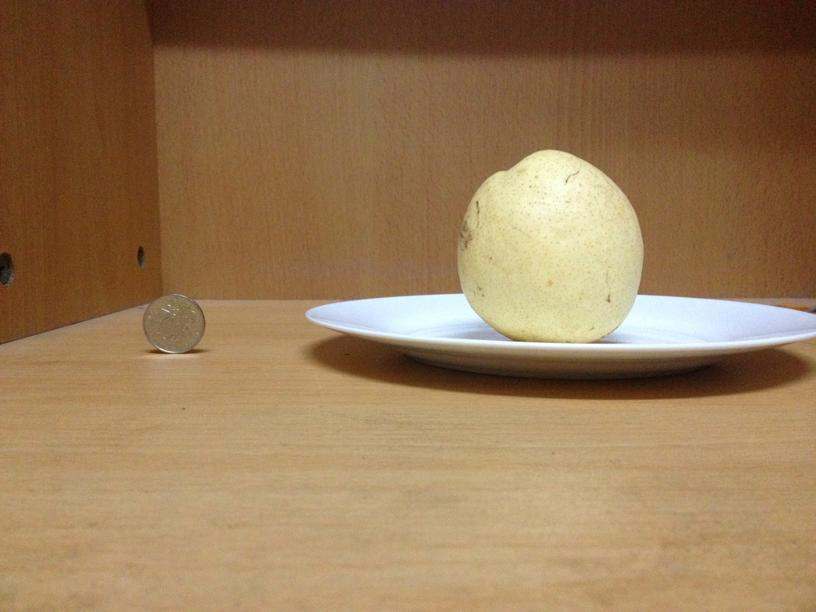coin: (139, 295, 204, 353)
pear: (457, 146, 645, 347)
